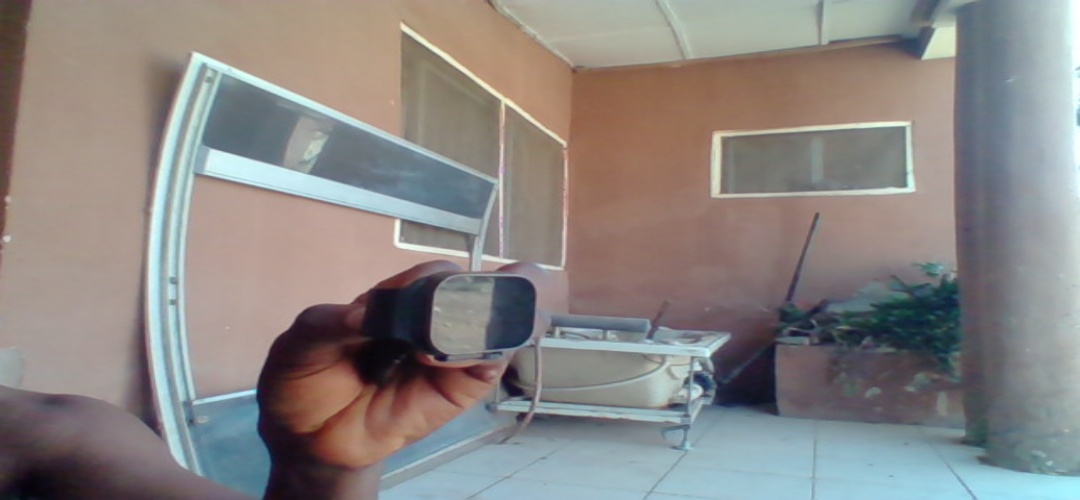smart_watch: (367, 272, 543, 362)
